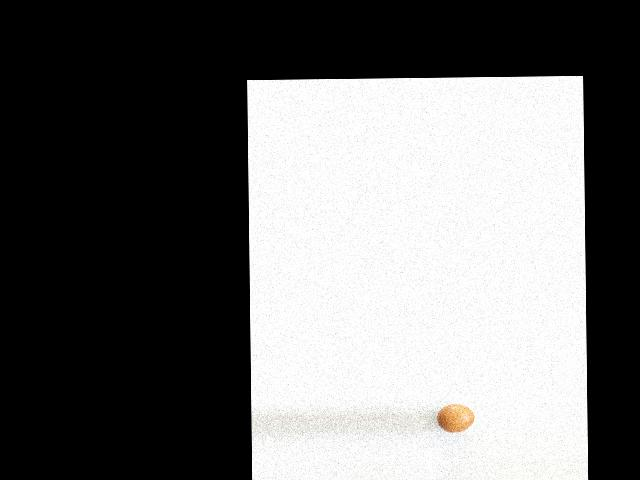egg: (436, 404, 475, 433)
